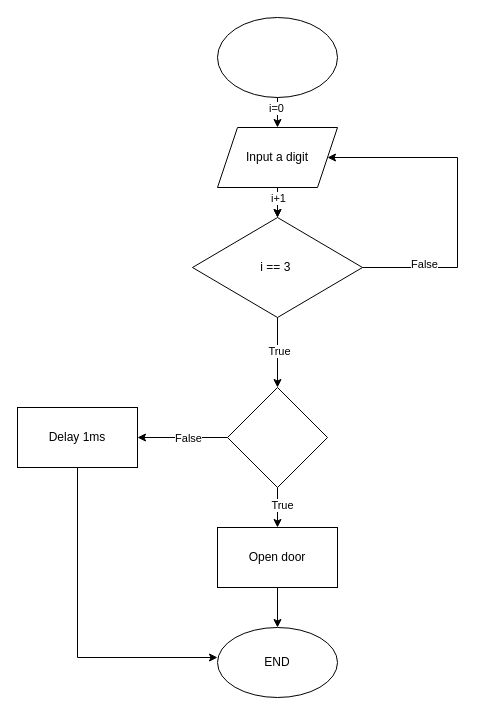
Some shapes in this 483 by 715 pixel diagram are drawn without their labels. Here are the shapes that lost their labels. From the top down, the centre of each, then its label:
At (x=277, y=57): "START".
At (x=277, y=437): "Check password".
